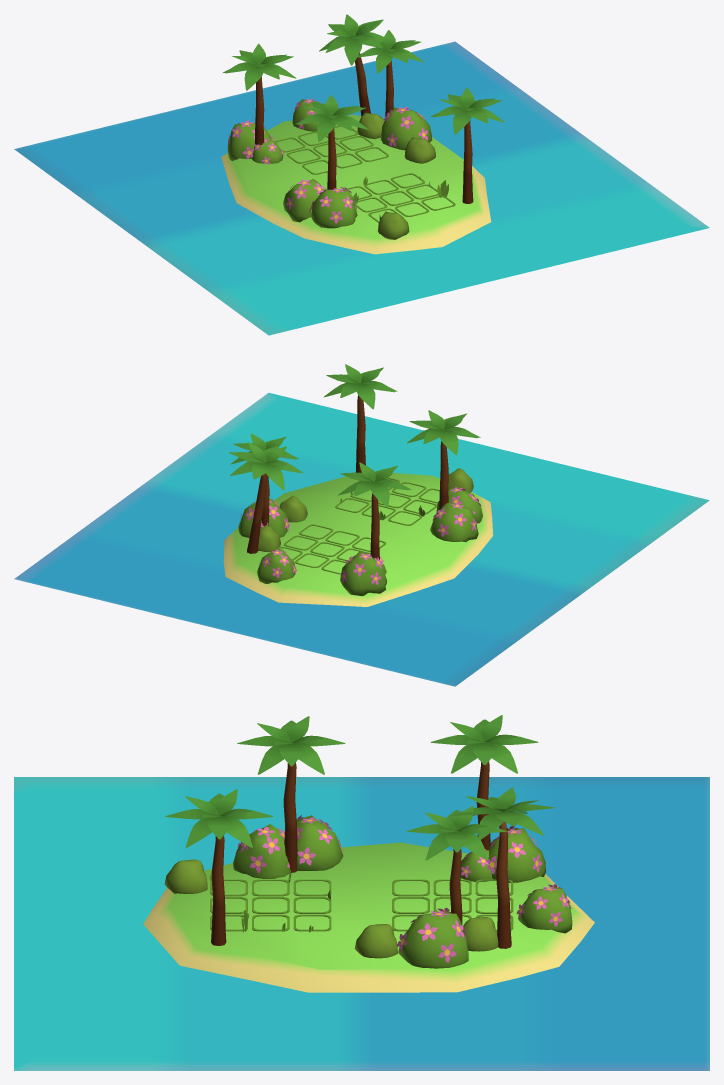
The model's file is Beach.glb.
3 views of the same model, one above another, from view 1: azimuth 30°, elevation 25°; view 2: azimuth 150°, elevation 25°; view 3: azimuth 270°, elevation 25° (orthographic). The views are drawn at different scales.
Parts seen in each view (by area): view 1: Plane.009, Plane, Plane.001, PalmenMerge.004, PalmenMerge.001, PalmenMerge, PalmenMerge.002, BushMerge.004, BushMerge.008, PalmenMerge.003, BushMerge, BushMerge.001 (+5 smaller); view 2: Plane.009, Plane, PalmenMerge.001, Plane.001, PalmenMerge.004, PalmenMerge.002, PalmenMerge, BushMerge.001, BushMerge, BushMerge.003, BushMerge.004, PalmenMerge.003 (+2 smaller); view 3: Plane.009, Plane, PalmenMerge.004, PalmenMerge.002, Plane.001, PalmenMerge.001, BushMerge.004, PalmenMerge, PalmenMerge.003, BushMerge.008, BushMerge, BushMerge.001 (+5 smaller).
Part boxes in pixels (<box>): Plane.009: <box>14,41,709,335</box>; Plane: <box>221,114,491,254</box>; Plane.001: <box>274,125,455,222</box>; PalmenMerge.004: <box>431,87,504,203</box>; PalmenMerge.001: <box>319,14,383,116</box>; PalmenMerge: <box>223,43,296,144</box>; PalmenMerge.002: <box>295,95,368,189</box>; BushMerge.004: <box>380,107,432,150</box>; BushMerge.008: <box>309,187,357,228</box>; PalmenMerge.003: <box>357,30,423,116</box>; BushMerge: <box>283,179,326,222</box>; BushMerge.001: <box>227,120,273,161</box>; Plane.009: <box>14,393,709,686</box>; Plane: <box>223,471,493,606</box>; PalmenMerge.001: <box>229,442,302,553</box>; Plane.001: <box>278,477,439,574</box>; PalmenMerge.004: <box>324,364,397,472</box>; PalmenMerge.002: <box>407,410,480,509</box>; PalmenMerge: <box>338,462,411,559</box>; BushMerge.001: <box>340,551,386,596</box>; BushMerge: <box>430,502,478,542</box>; BushMerge.003: <box>257,548,296,583</box>; BushMerge.004: <box>238,498,289,537</box>; PalmenMerge.003: <box>231,433,298,525</box>; Plane.009: <box>14,777,709,1070</box>; Plane: <box>143,842,594,992</box>; PalmenMerge.004: <box>165,789,273,945</box>; PalmenMerge.002: <box>237,716,345,872</box>; Plane.001: <box>210,879,513,931</box>; PalmenMerge.001: <box>450,787,555,948</box>; BushMerge.004: <box>396,907,468,968</box>; PalmenMerge: <box>430,715,538,850</box>; PalmenMerge.003: <box>406,806,506,925</box>; BushMerge.008: <box>233,824,290,878</box>; BushMerge: <box>296,815,343,870</box>; BushMerge.001: <box>486,826,545,882</box>.
Size of the model in its own units: 18.36 by 5.08 by 18.36.
Materials: 1 (1 with a texture image).
